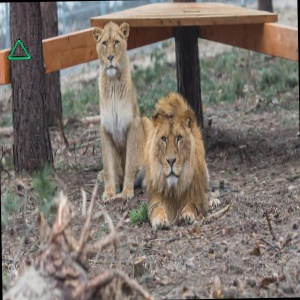triangle: (6, 35, 33, 62)
